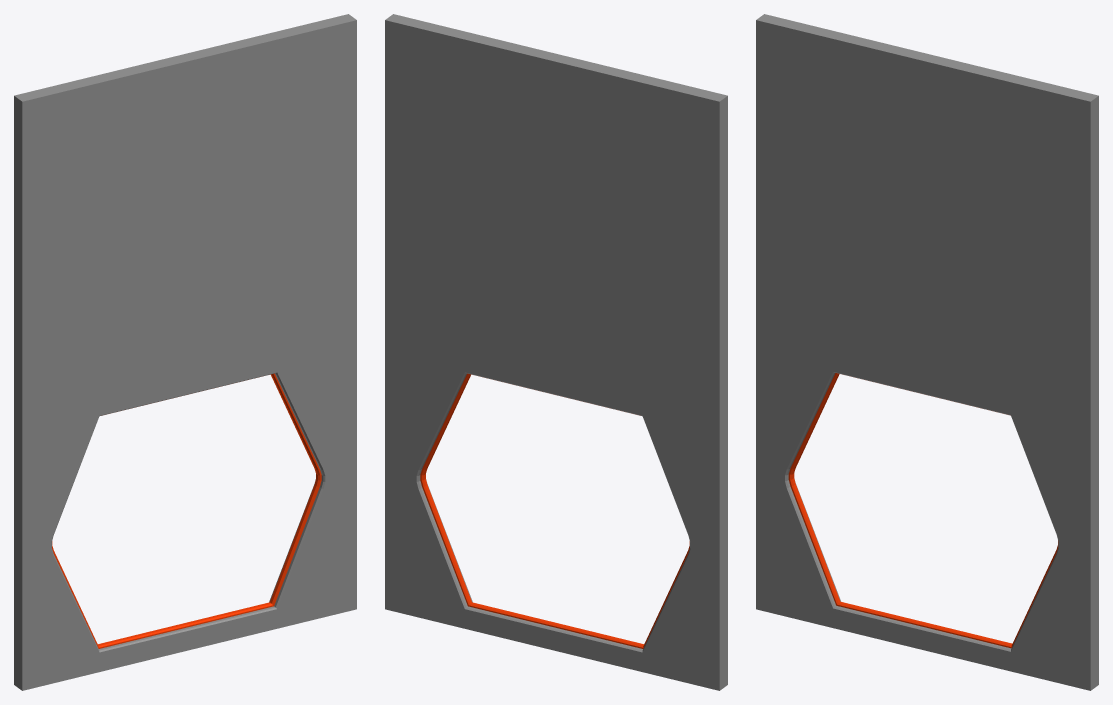
Rendered from startPiece.FBX.
The picture shows the model from 3 angles, left to right: view 1: azimuth 30°, elevation 25°; view 2: azimuth 150°, elevation 25°; view 3: azimuth 330°, elevation 25°; orthographic projection.
Visible parts, largest first — view 1: Box001; view 2: Box001; view 3: Box001.
Part boxes in pixels (x1,y1,x2,y2): Box001: (14, 14, 356, 690); Box001: (385, 14, 727, 690); Box001: (756, 14, 1098, 690).
Size of the model in its own units: 143 by 241 by 6.18.
